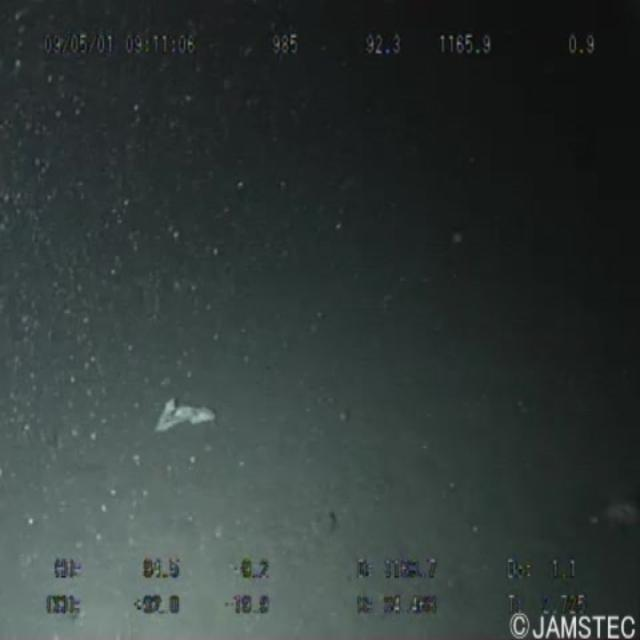Plastic: (145, 376, 227, 460)
